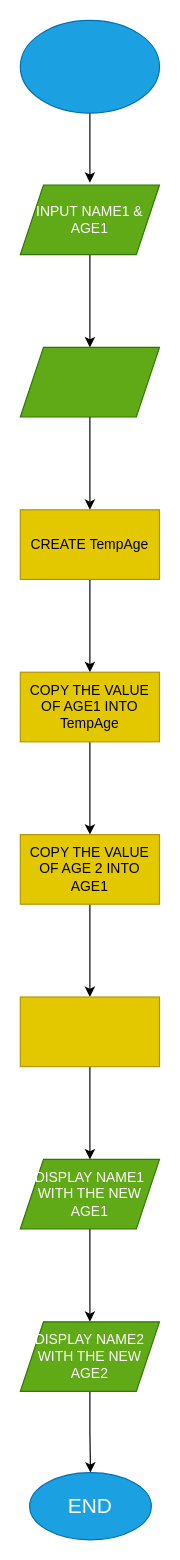
Some shapes in this 180 by 1560 pixel diagram are drawn without their labels. Each missing label, with the centre of its shape:
COPY THE VALUE OF TempAge INTO AGE2: [89,1031]
INPUT NAME2 & AGE2: [89,381]
START: [89,66]
